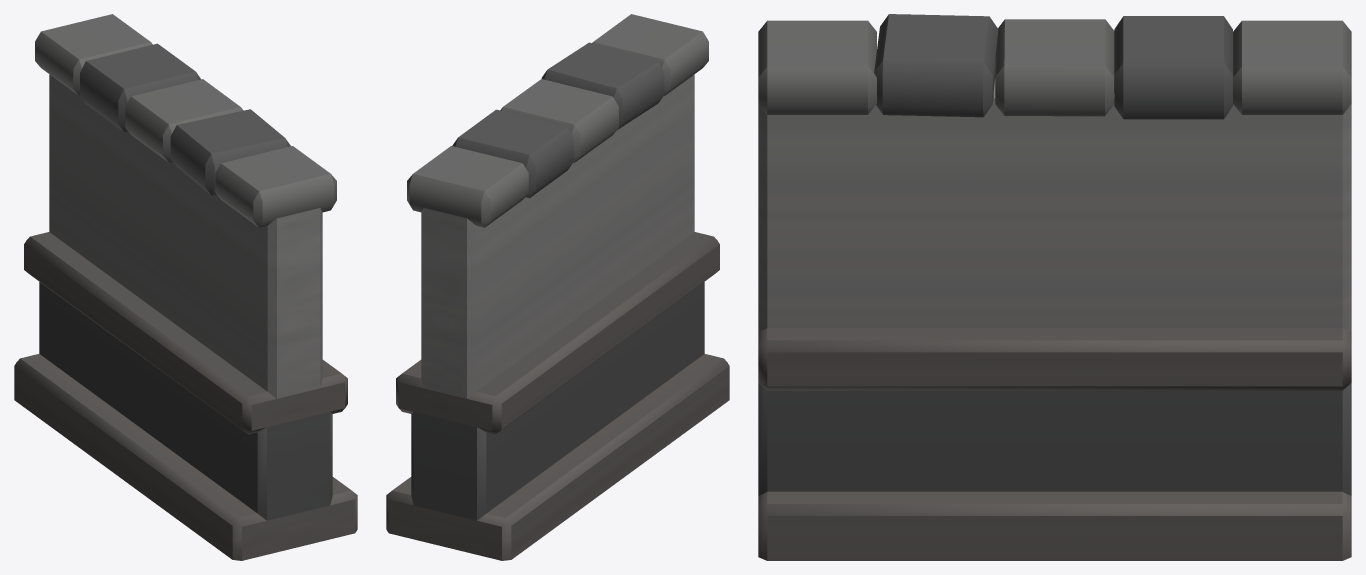
File: Wall_1_1.glb
3 renders of one model, left to right at view 1: azimuth 30°, elevation 25°; view 2: azimuth 150°, elevation 25°; view 3: azimuth 270°, elevation 25°, orthographic. The views are drawn at different scales.
Visible parts, largest first — view 1: Wall_1_1; view 2: Wall_1_1; view 3: Wall_1_1.
Boxes of the visible parts, box(x1,y1,x2,y2) form: Wall_1_1: box(14, 14, 357, 560); Wall_1_1: box(386, 14, 729, 560); Wall_1_1: box(758, 14, 1351, 560).
Size of the model in its own units: 0.6259 by 1.75 by 1.95.
1 material, 1 textured.
